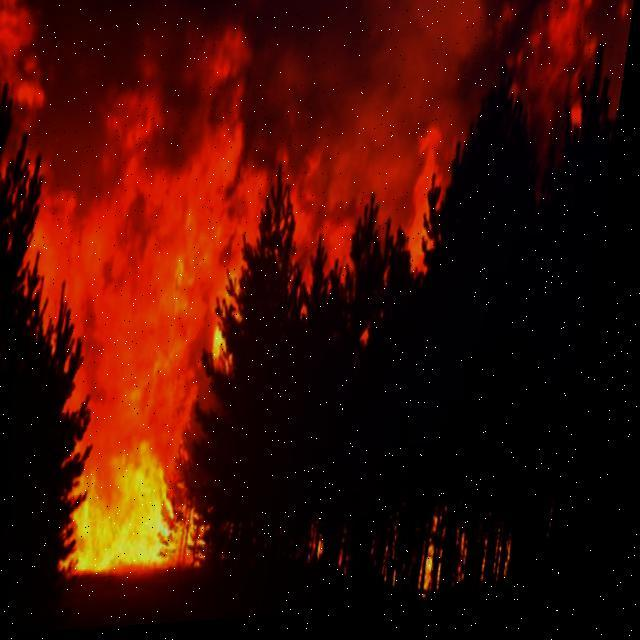Fire: (20, 204, 259, 586)
